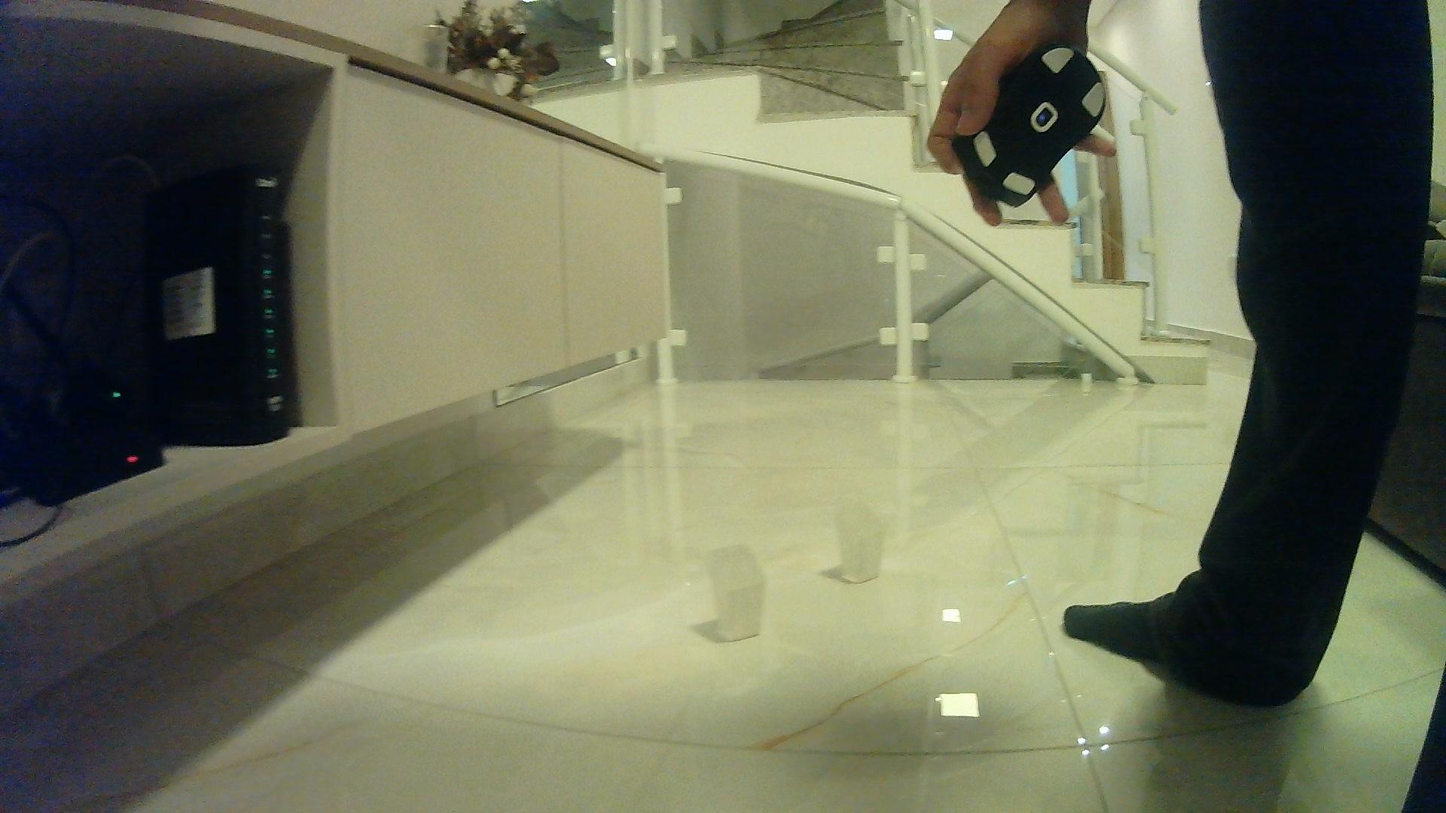erva_daninha: (699, 540, 776, 647), (827, 494, 892, 590)
